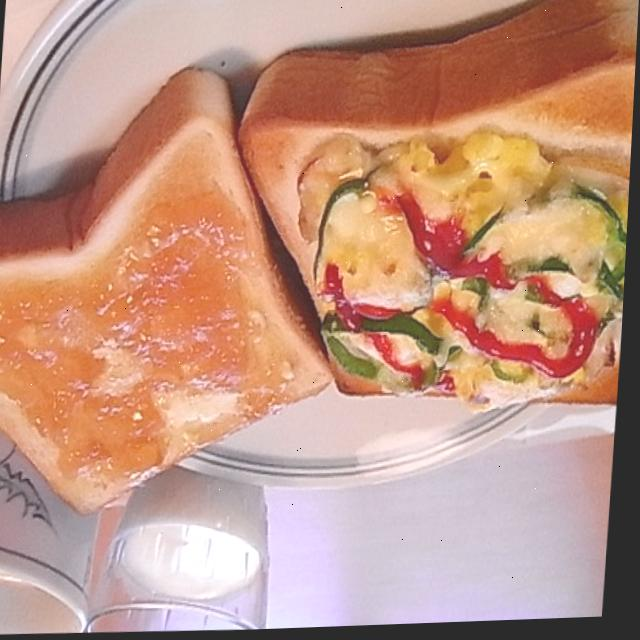面包点心: (222, 0, 639, 478)
